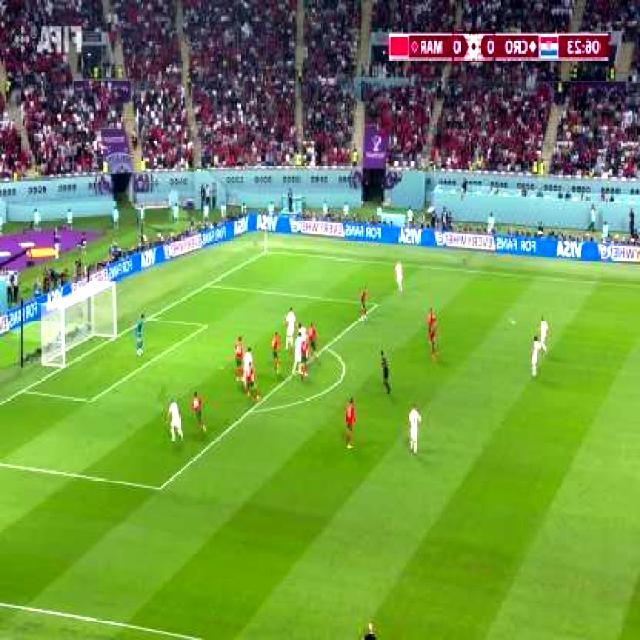bigarea_bottom_inner: (154, 480, 164, 497)
bigarea_top_inner: (371, 298, 382, 312)
bigarea_top_outter: (203, 282, 211, 289)
bottom_arc_area_intersection: (244, 403, 256, 420)
corner: (262, 250, 269, 256)
smallarea_bottom_inner: (86, 394, 97, 406)
smallarea_bottom_outter: (19, 386, 26, 397)
smallarea_top_inner: (202, 320, 210, 334)
smallarea_top_outter: (146, 314, 154, 323)
top_arc_area_intersection: (322, 341, 329, 354)
